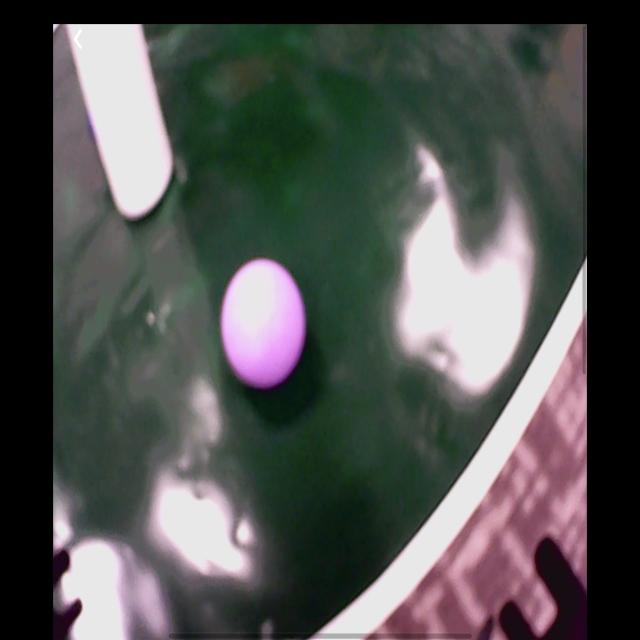ball: (223, 259, 309, 391)
